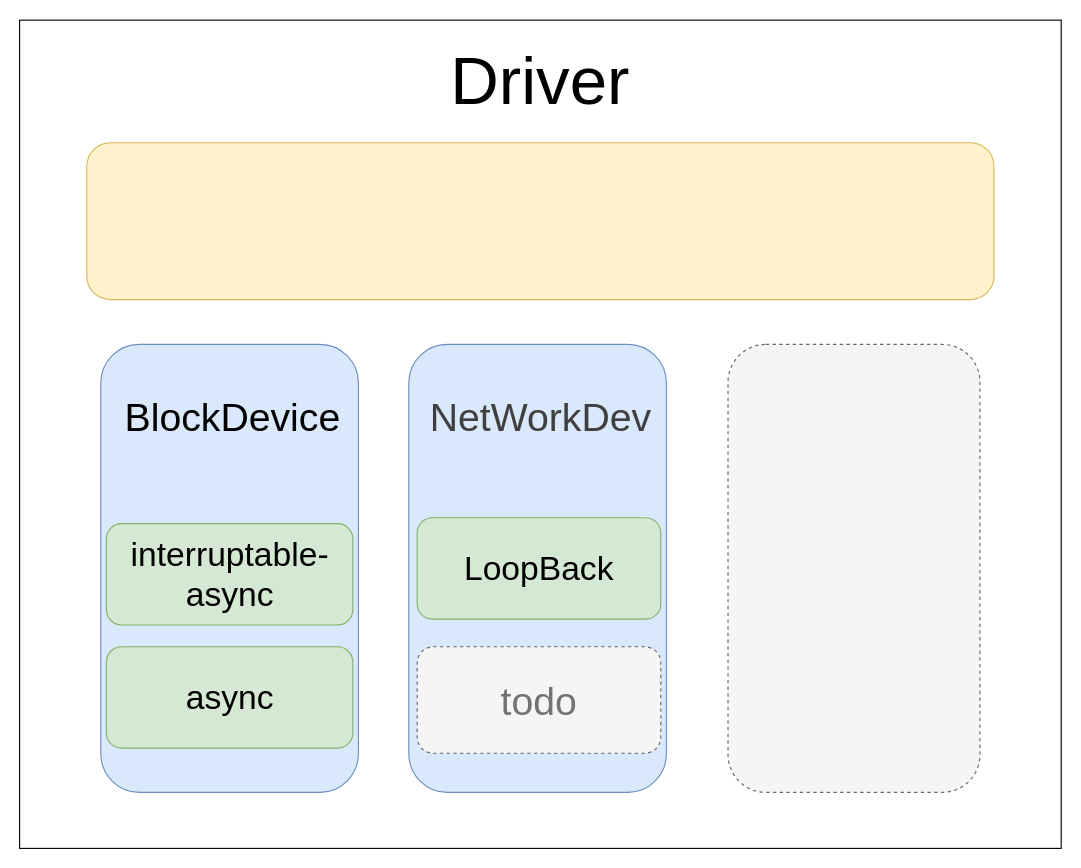
Image size: 1081x868. Some labels were removed from this diagram. Here are the shapes that lost their labels. From the top down, the centre of each, then its label:
At (540,221): "All_DEVICES".
At (853,567): "GPU".
